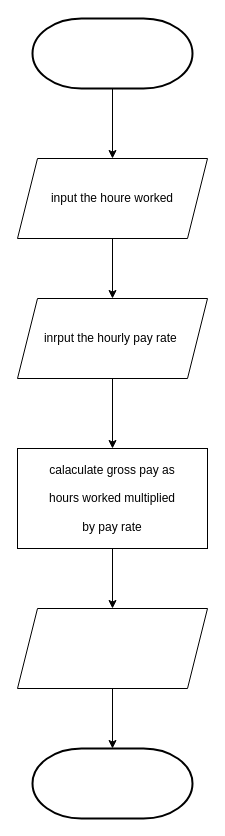
The diagram is 225 pixels wide and 836 high, and some of its shapes have lost their labels. Here are the shapes that lost their labels. From the top down, the box of each, then its label:
(31, 17, 193, 89): Start
(31, 747, 193, 819): End
